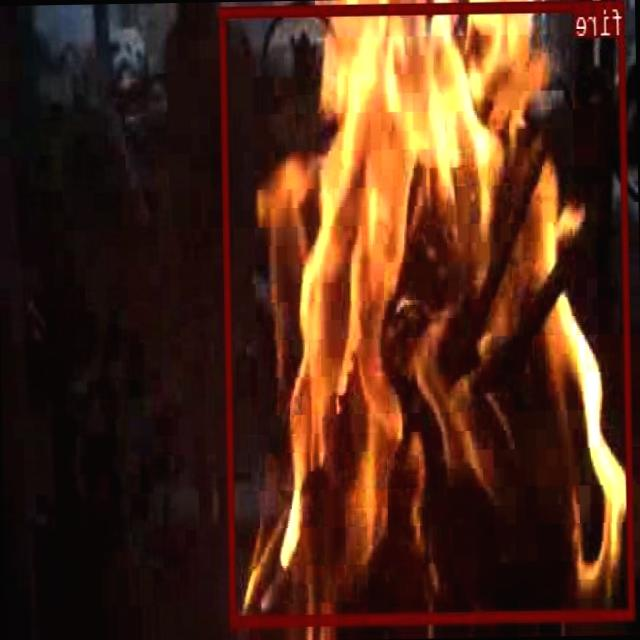fire: (219, 0, 635, 624)
